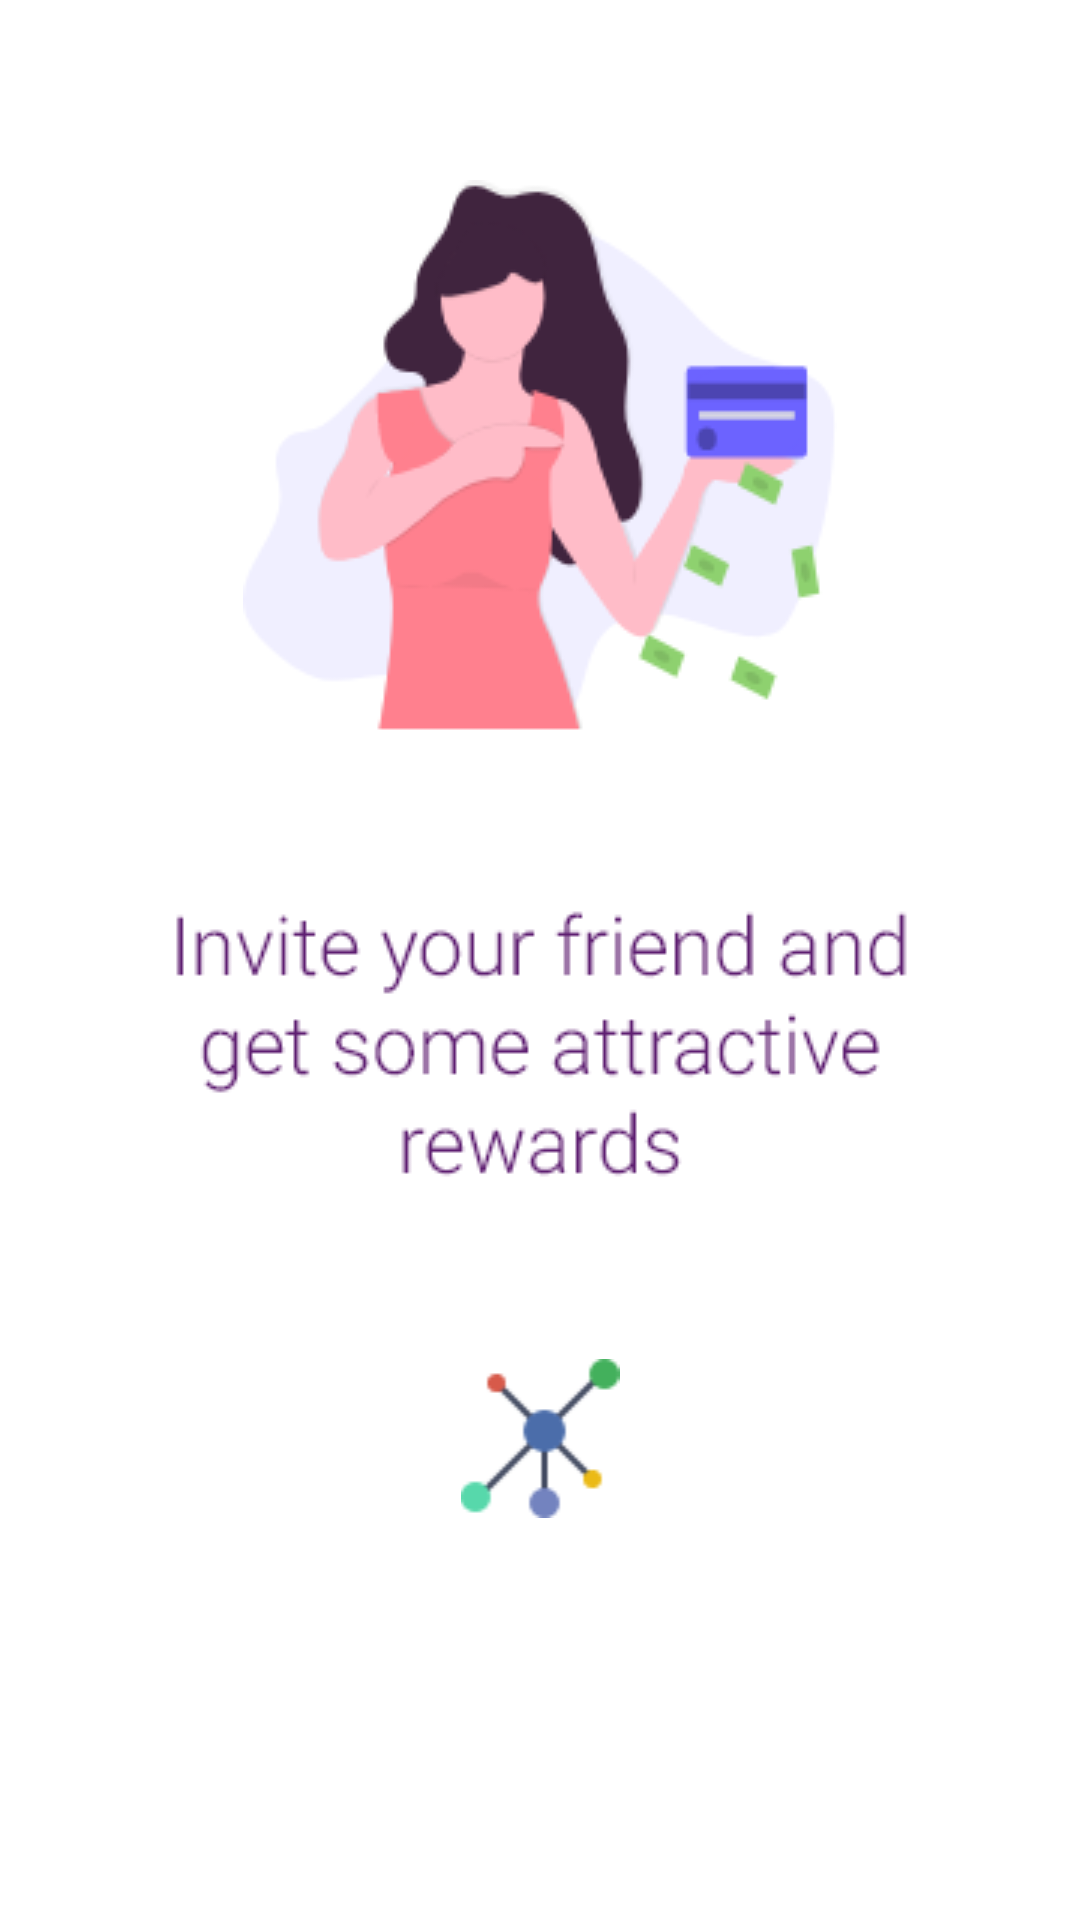

Icons on this 1080w x 1920h Android screen, each with the point to tap as (x,y):
sharelink: (540,1438)
